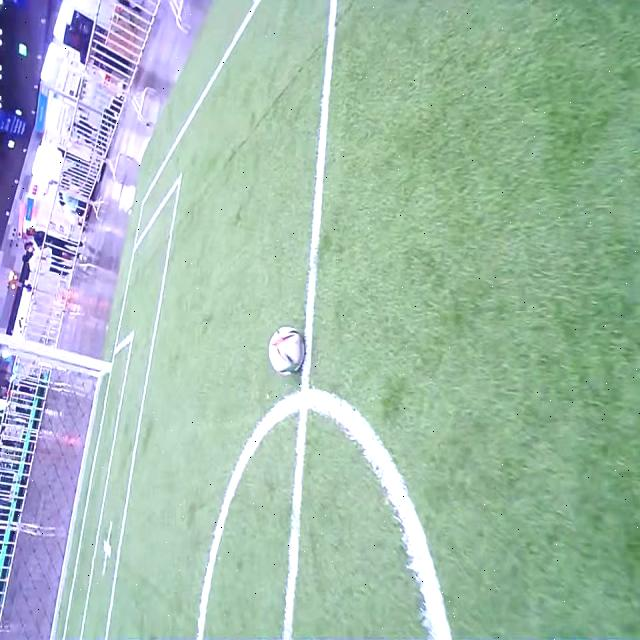ball: (268, 327, 304, 375)
